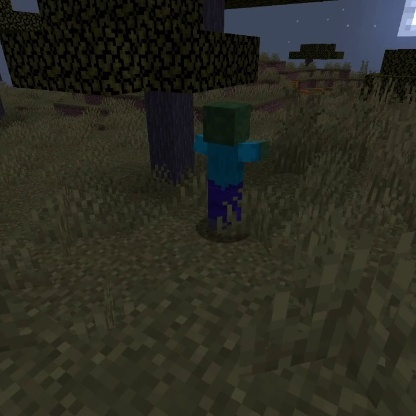zombie: (189, 98, 274, 240)
